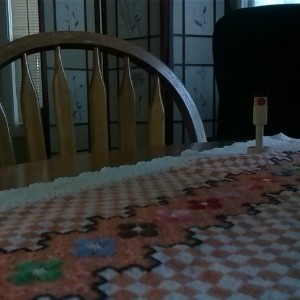traffic light red: (245, 89, 273, 157)
